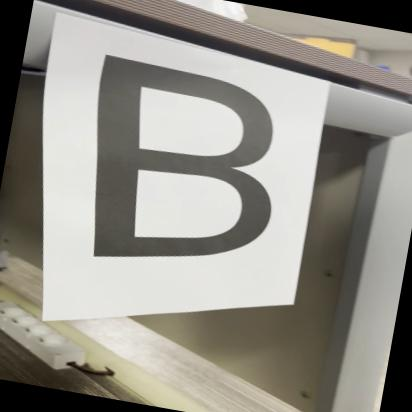seat: (48, 35, 304, 288)
